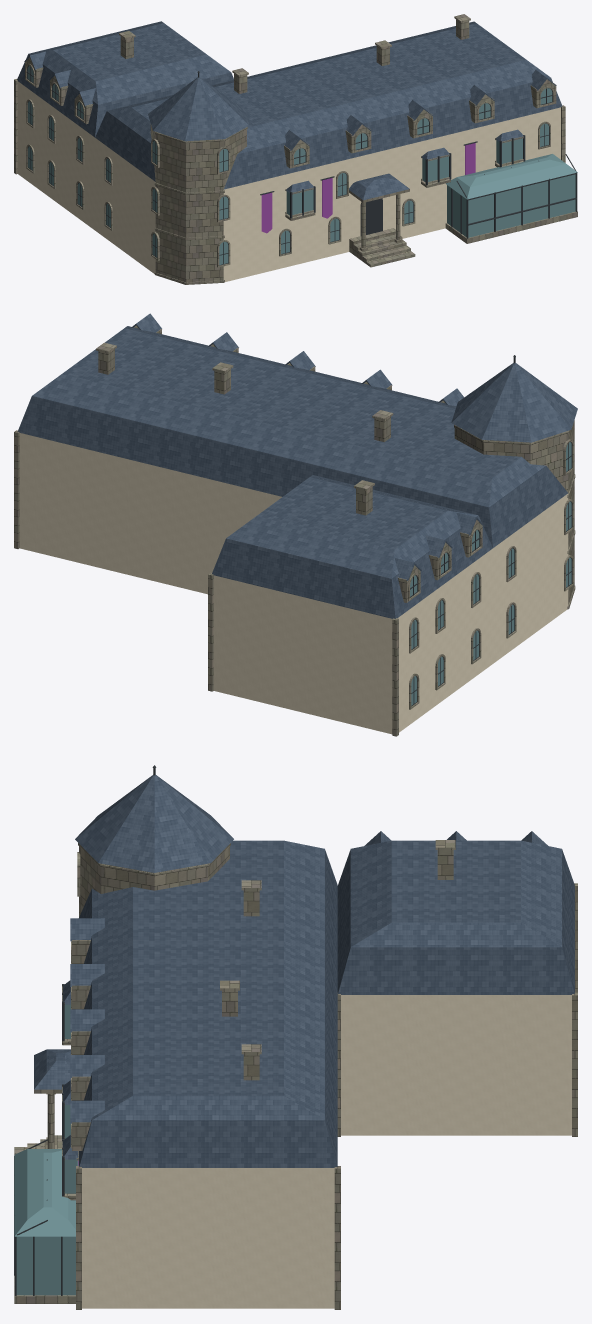
Rendered from Furn_Dorm_Mage.fbx.
3 renders of one model, top to bottom at view 1: azimuth 30°, elevation 25°; view 2: azimuth 150°, elevation 25°; view 3: azimuth 270°, elevation 25°, orthographic. The views are drawn at different scales.
Visible parts, largest first — view 1: Furn_Dorm_Mage_Mesh; view 2: Furn_Dorm_Mage_Mesh; view 3: Furn_Dorm_Mage_Mesh.
Part boxes in pixels (x1,y1,x2,y2): Furn_Dorm_Mage_Mesh: (14, 14, 577, 284); Furn_Dorm_Mage_Mesh: (14, 313, 577, 736); Furn_Dorm_Mage_Mesh: (14, 765, 577, 1309).
Size of the model in its own units: 31.34 by 15 by 26.16.
